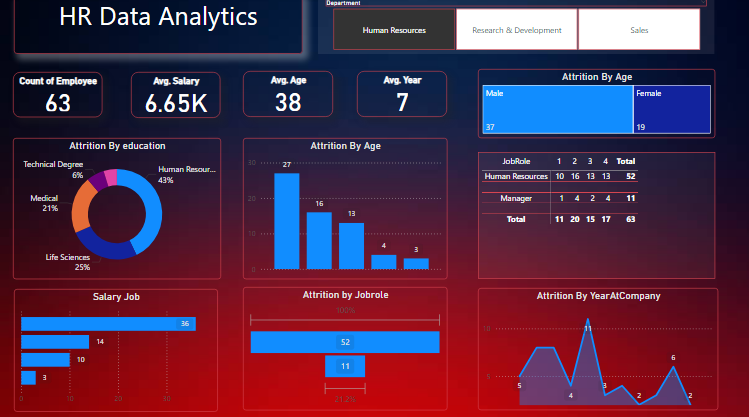

The dashboard page shown, as its layout file describes it:
{"tool":"powerbi","page":{"name":"Page 1","canvas":[1280,720],"ordinal":0},"visuals":[{"type":"card","title":"Avg. Salary","fields":{"Values":["Avg(HR_Analytics.MonthlyIncome)"]},"box":[238.1,131.8,150.2,76.5],"z":0},{"type":"card","title":"Count of Employee","fields":{"Values":["CountNonNull(HR_Analytics.EmpID)"]},"box":[40,132,150,76],"z":1000},{"type":"card","title":"Avg.  Age","fields":{"Values":["Avg(HR_Analytics.Age)"]},"box":[426.7,131,151.2,77.3],"z":2000},{"type":"card","title":"Avg. Year","fields":{"Values":["Avg(HR_Analytics.YearsAtCompany)"]},"box":[618.2,131,151.2,77.3],"z":3000},{"type":"donutChart","title":"Attrition By education","fields":{"Category":["HR_Analytics.EducationField"],"Y":["CountNonNull(HR_Analytics.Attrition Count)"]},"box":[39.7,243.8,348.7,236.7],"z":4000},{"type":"columnChart","title":"Attrition By Age","fields":{"Category":["HR_Analytics.EducationField"],"Y":["CountNonNull(HR_Analytics.Attrition Count)"]},"box":[426.7,243.6,342.7,236.9],"z":5000},{"type":"pivotTable","fields":{"Rows":["HR_Analytics.JobRole"],"Columns":["HR_Analytics.JobSatisfaction"],"Values":["CountNonNull(HR_Analytics.Attrition Count)"]},"box":[819.7,267.1,398.1,213.3],"z":6000},{"type":"barChart","title":"Salary Job","fields":{"Category":["HR_Analytics.SalarySlab"],"Y":["CountNonNull(HR_Analytics.Attrition Count)"]},"box":[42.5,496.1,341.6,205.5],"z":7000},{"type":"funnel","title":"Attrition by Jobrole","fields":{"Category":["HR_Analytics.JobRole"],"Y":["CountNonNull(HR_Analytics.Attrition Count)"]},"box":[426.7,493.9,342.7,206.6],"z":8000},{"type":"areaChart","title":"Attrition By YearAtCompany","fields":{"Category":["HR_Analytics.YearsAtCompany"],"Y":["CountNonNull(HR_Analytics.Attrition Count)"]},"box":[819.7,495.5,403.1,204.9],"z":9000},{"type":"treemap","title":"Attrition By Age","fields":{"Group":["HR_Analytics.Gender"],"Values":["CountNonNull(HR_Analytics.Attrition Count)"]},"box":[819.7,127.7,398.1,115.9],"z":10000},{"type":"slicer","fields":{"Values":["HR_Analytics.Department"]},"box":[552.7,3.4,665.2,99.1],"z":11000},{"type":"textbox","box":[42,0,483.8,102.5],"z":12000}]}

Visuals, with their boxes in screenshot pixels (x1, y1, x2, y2), scaled from the page's 1280x720 canvas onto the 749x417 screenshot:
"Avg. Salary" card: (139, 76, 227, 121)
"Count of Employee" card: (23, 76, 111, 120)
"Avg.  Age" card: (250, 76, 338, 121)
"Avg. Year" card: (362, 76, 450, 121)
"Attrition By education" donutChart: (23, 141, 227, 278)
"Attrition By Age" columnChart: (250, 141, 450, 278)
pivotTable - HR_Analytics.JobRole x HR_Analytics.JobSatisfaction: (480, 155, 713, 278)
"Salary Job" barChart: (25, 287, 225, 406)
"Attrition by Jobrole" funnel: (250, 286, 450, 406)
"Attrition By YearAtCompany" areaChart: (480, 287, 716, 406)
"Attrition By Age" treemap: (480, 74, 713, 141)
slicer - HR_Analytics.Department: (323, 2, 713, 59)
textbox: (25, 0, 308, 59)
